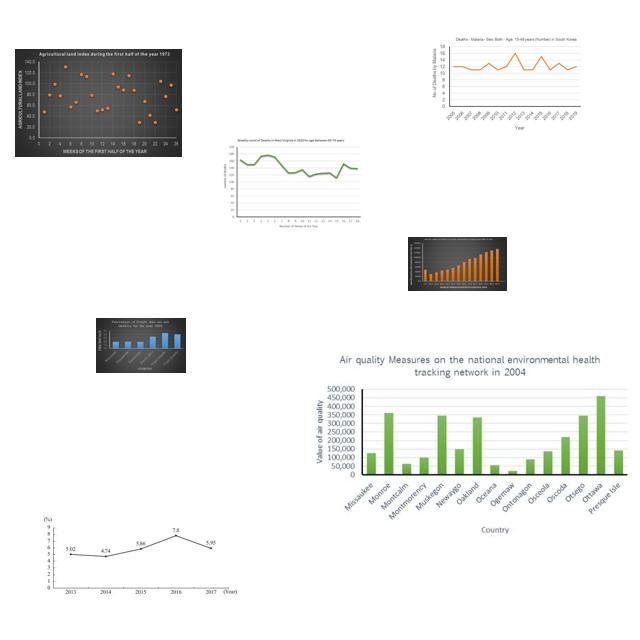Graph: (307, 348, 632, 537), (42, 509, 241, 600), (15, 49, 182, 157), (429, 34, 584, 132), (220, 136, 364, 232), (408, 237, 507, 291), (96, 318, 186, 373)
